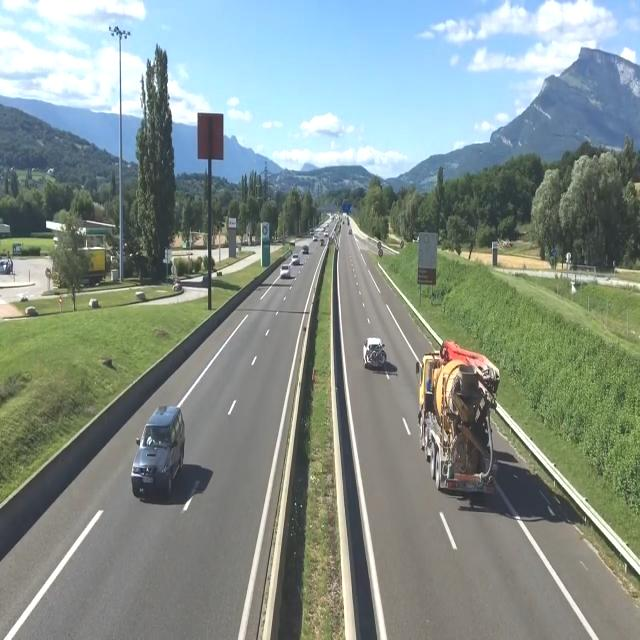Car: (129, 404, 185, 498), (363, 337, 390, 371), (280, 263, 292, 279), (290, 253, 300, 265), (300, 245, 310, 254), (312, 234, 319, 242), (323, 230, 329, 237)
Truck: (411, 340, 500, 494)
